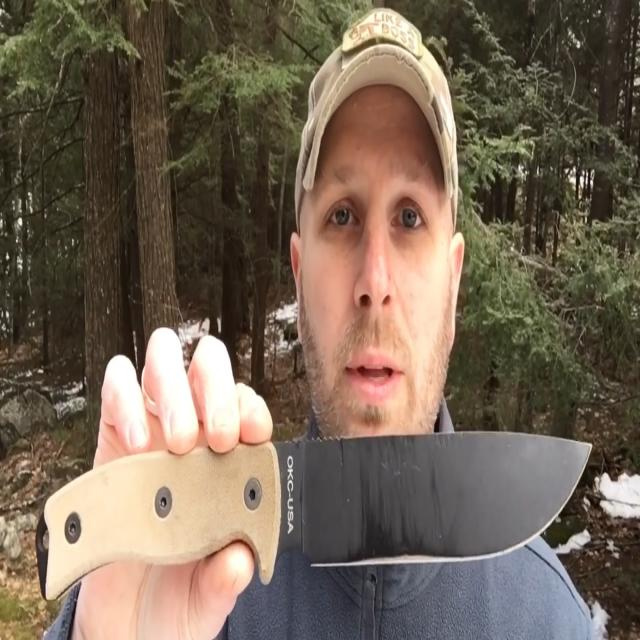knife: (33, 428, 597, 602)
